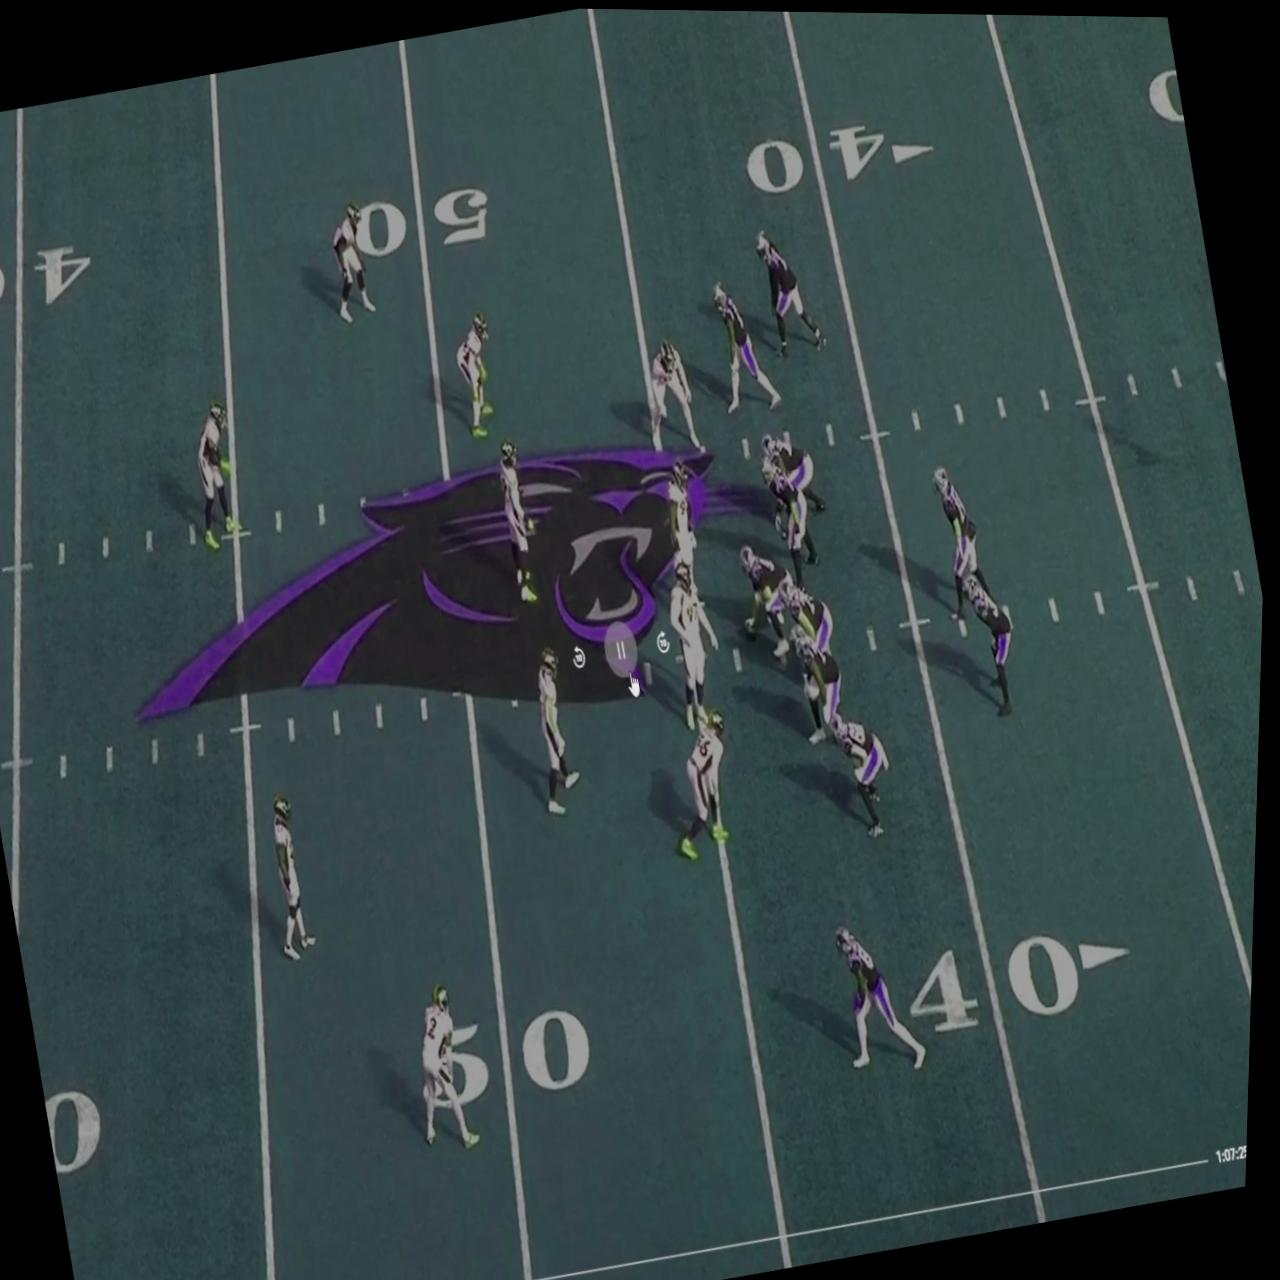40L: (0, 234, 98, 331)
40R: (904, 911, 1149, 1036), (743, 104, 941, 197)
50: (420, 1002, 606, 1117), (348, 176, 497, 263)
